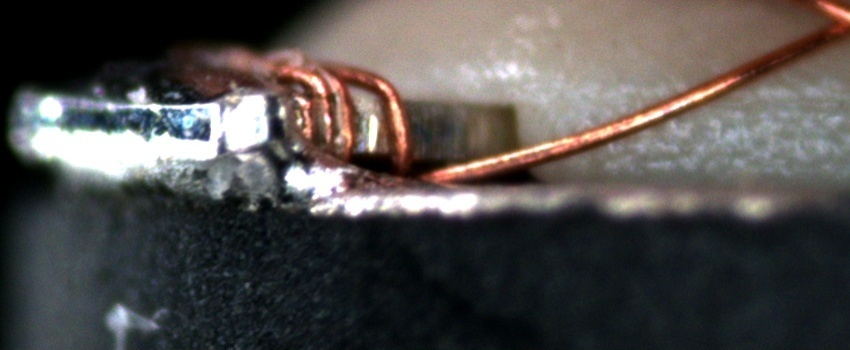CL: (806, 4, 850, 43)
DL: (611, 64, 850, 124)
TE: (198, 42, 418, 180)
